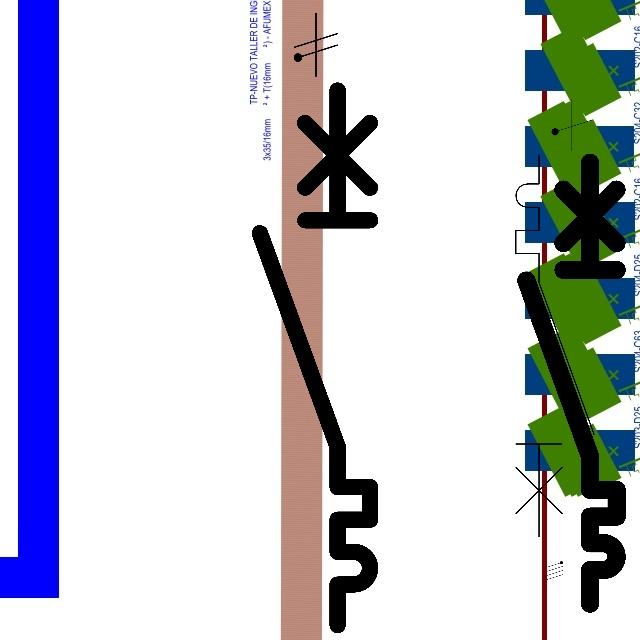interruptor_termomagnetico: (246, 76, 384, 638), (515, 151, 628, 615), (506, 145, 604, 547)
